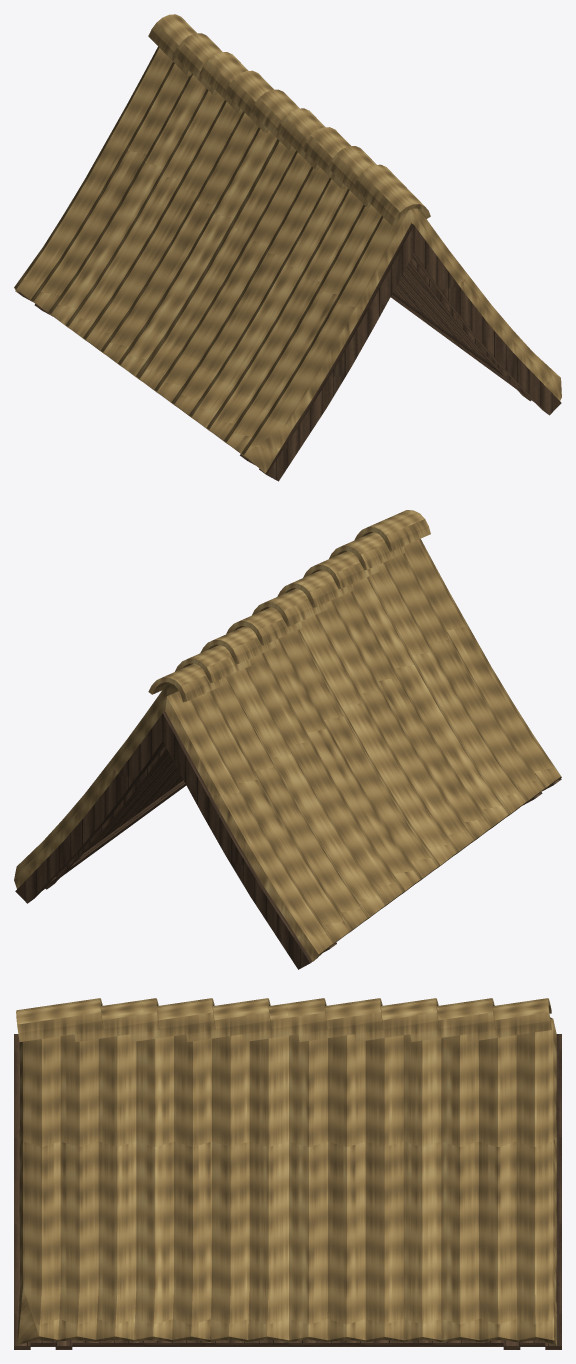
The model's file is Roof_Thatch_4x6.gltf.
The picture shows the model from 3 angles, top to bottom: view 1: azimuth 30°, elevation 25°; view 2: azimuth 150°, elevation 25°; view 3: azimuth 270°, elevation 25°; orthographic projection. The views are drawn at different scales.
Visible parts, largest first — view 1: Roof_Thatch_4x6; view 2: Roof_Thatch_4x6; view 3: Roof_Thatch_4x6.
Part boxes in pixels (left/top/right/bottom): Roof_Thatch_4x6: left=14, top=14, right=561, bottom=481; Roof_Thatch_4x6: left=14, top=510, right=561, bottom=969; Roof_Thatch_4x6: left=14, top=998, right=561, bottom=1349.
Bounding box in the file's own units: 5.51 × 4.23 × 7.57.
2 materials, 2 textured.
